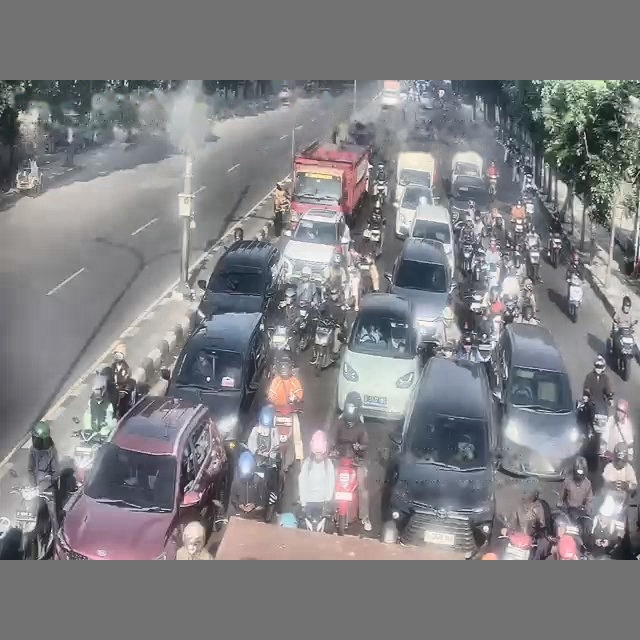Mobil: (55, 396, 228, 559), (384, 357, 498, 552), (494, 323, 585, 479), (162, 313, 267, 441), (337, 293, 420, 420), (385, 238, 455, 343), (197, 240, 281, 320), (282, 208, 350, 281), (409, 204, 455, 273), (395, 184, 436, 238), (448, 176, 490, 223), (419, 93, 434, 109)
Motor: (11, 486, 54, 559), (72, 420, 114, 487), (590, 489, 627, 555), (334, 457, 358, 535), (313, 316, 339, 373), (610, 327, 634, 380), (363, 209, 385, 256), (568, 273, 582, 322), (526, 240, 540, 282), (472, 248, 487, 282), (548, 232, 562, 268), (502, 296, 518, 324), (461, 243, 473, 277), (488, 175, 497, 197)
Truk: (215, 517, 464, 560), (289, 141, 369, 229), (394, 151, 436, 205)
